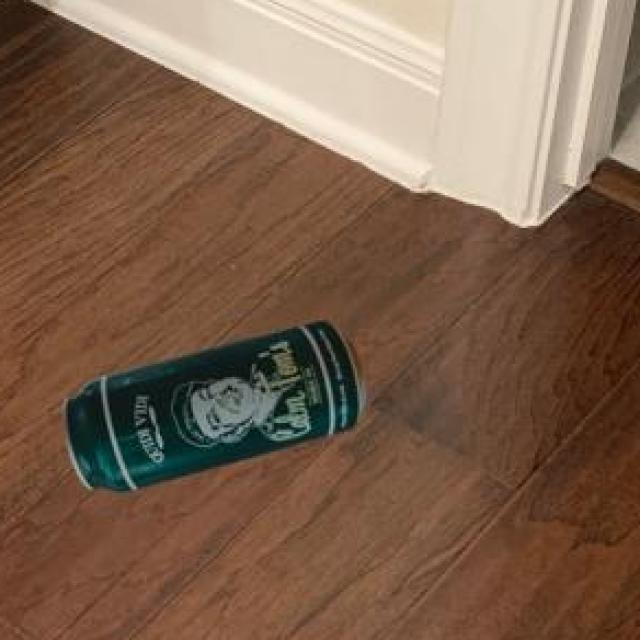logam: (60, 319, 363, 488)
